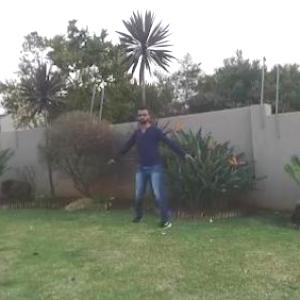land: (99, 89, 225, 245)
